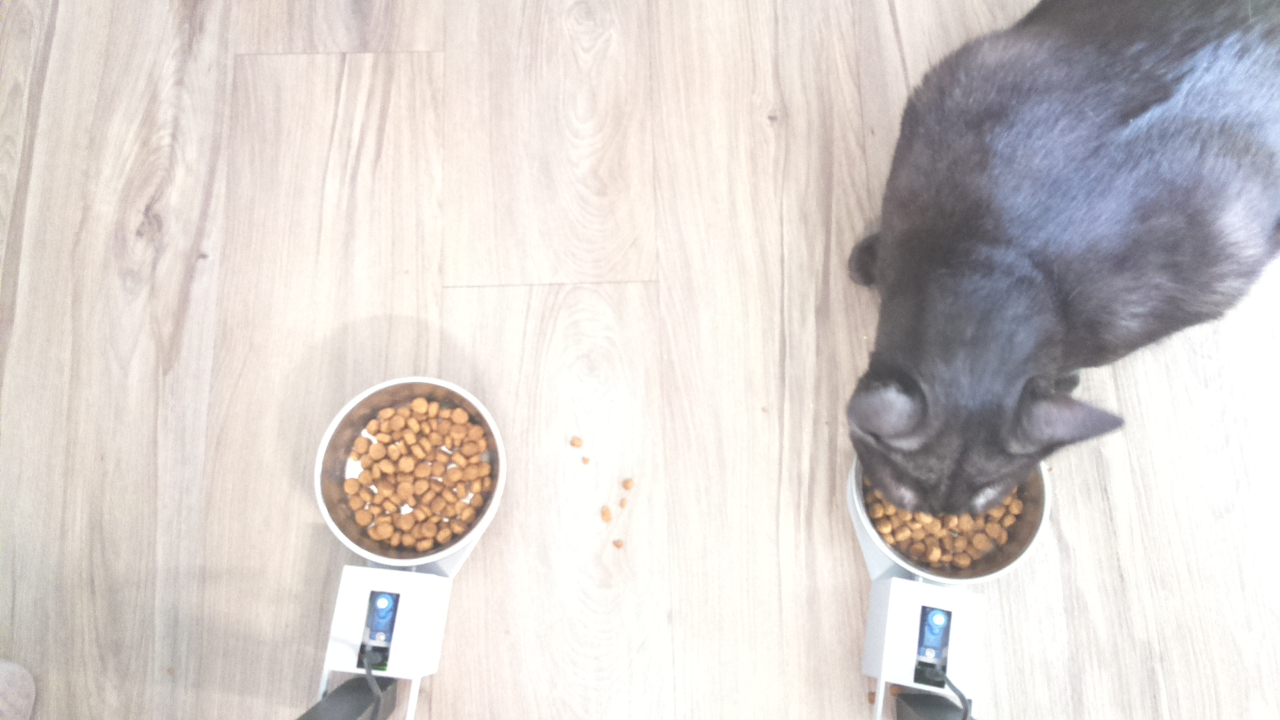open_bowl: (312, 371, 512, 569)
saki_eating: (839, 306, 1143, 591)
